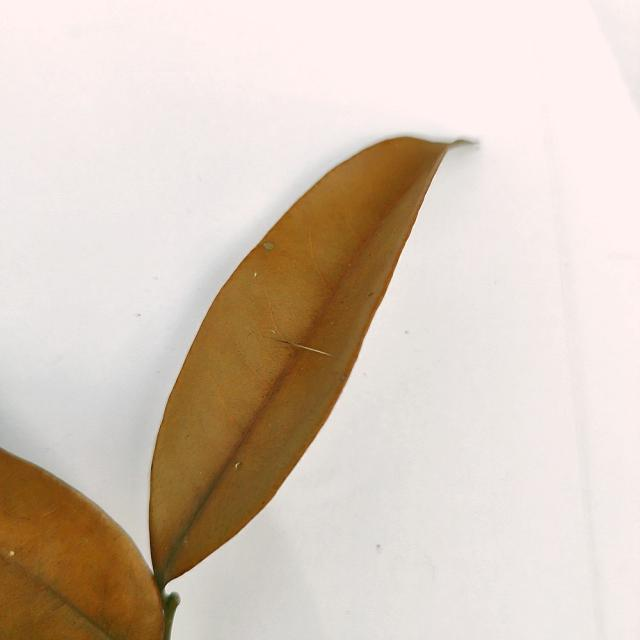Dry_Leaf-Lychee: (147, 136, 458, 607)
